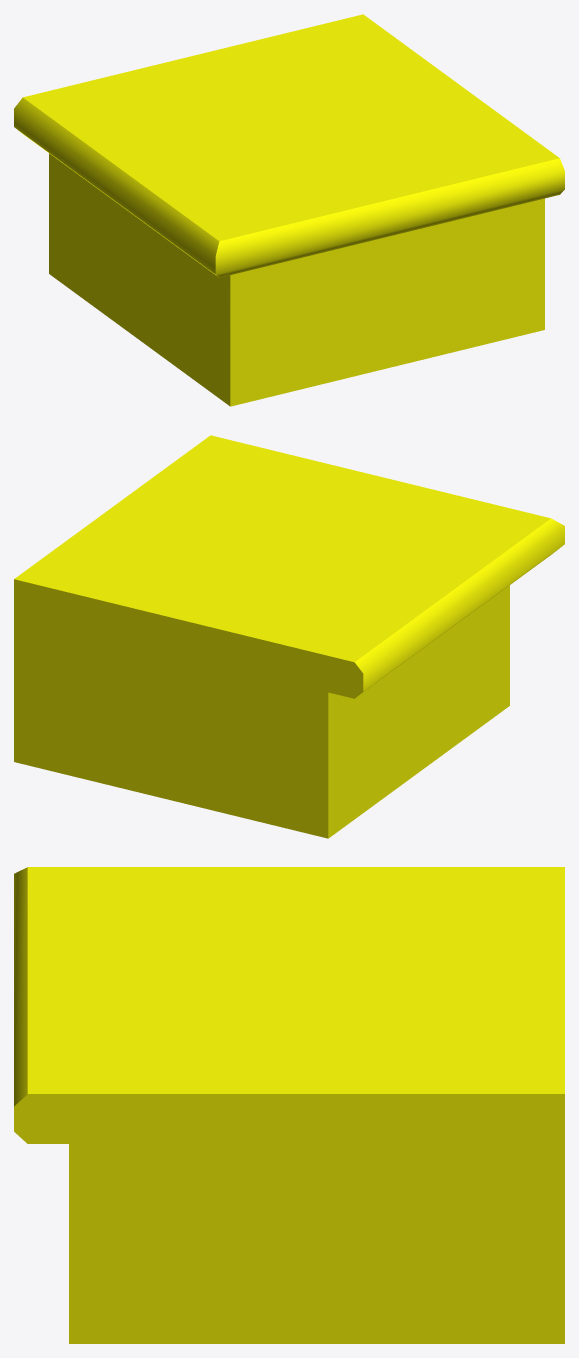
Rendered from kaykit-kitchencounter-outercorner.glb.
3 renders of one model, top to bottom at view 1: azimuth 30°, elevation 25°; view 2: azimuth 150°, elevation 25°; view 3: azimuth 270°, elevation 25°, orthographic. The views are drawn at different scales.
Parts seen in each view (by area): view 1: kitchencounter_outercorner; view 2: kitchencounter_outercorner; view 3: kitchencounter_outercorner.
Boxes of the visible parts, x1,y1,x2,y2 form: kitchencounter_outercorner: (14, 14, 564, 406); kitchencounter_outercorner: (14, 435, 564, 838); kitchencounter_outercorner: (14, 867, 564, 1343).
Size of the model in its own units: 2 by 1 by 2.
